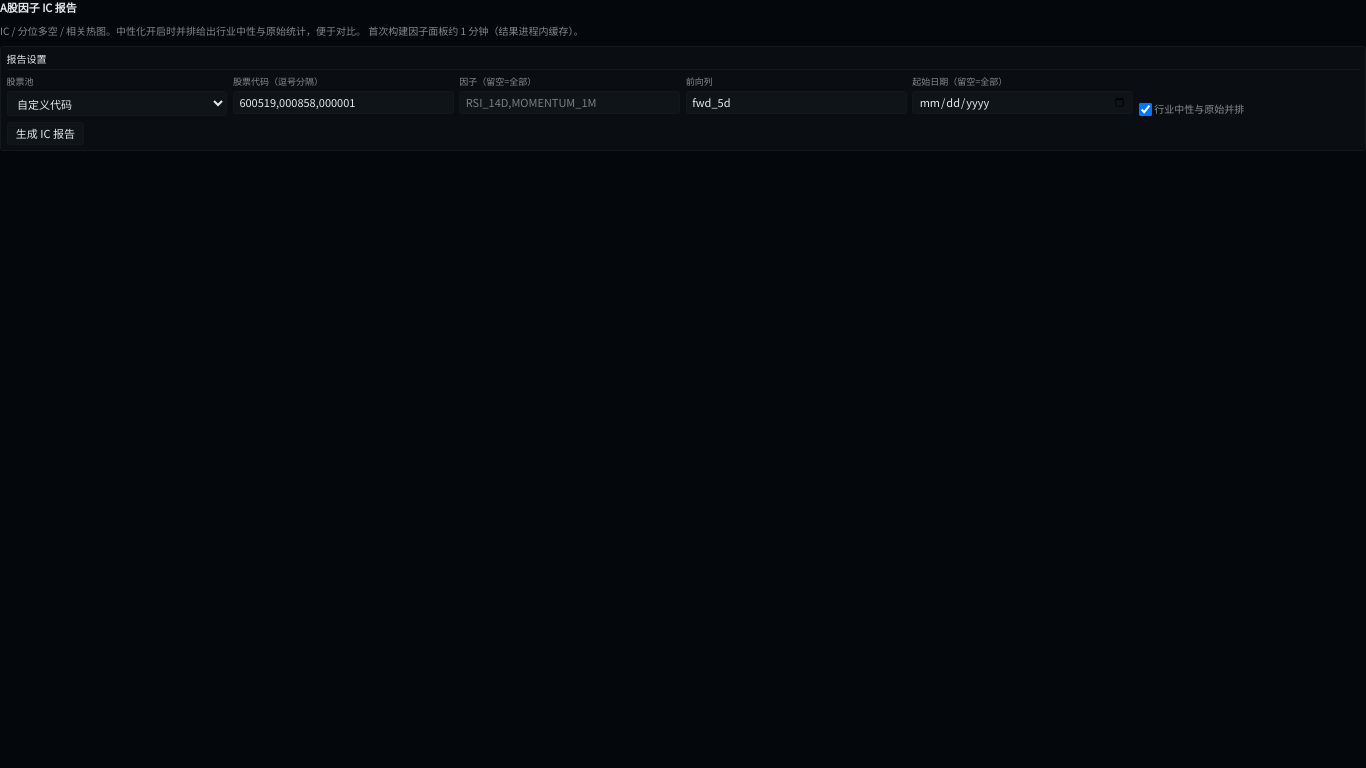
Test: AshareFactorReportPage › 生成报告:POST 参数拼装正确,四个分区渲染
The width and height of the screenshot is (1366, 768).
Click the button "生成 IC 报告".
click(45, 133)  # box 6,122 -> 84,145
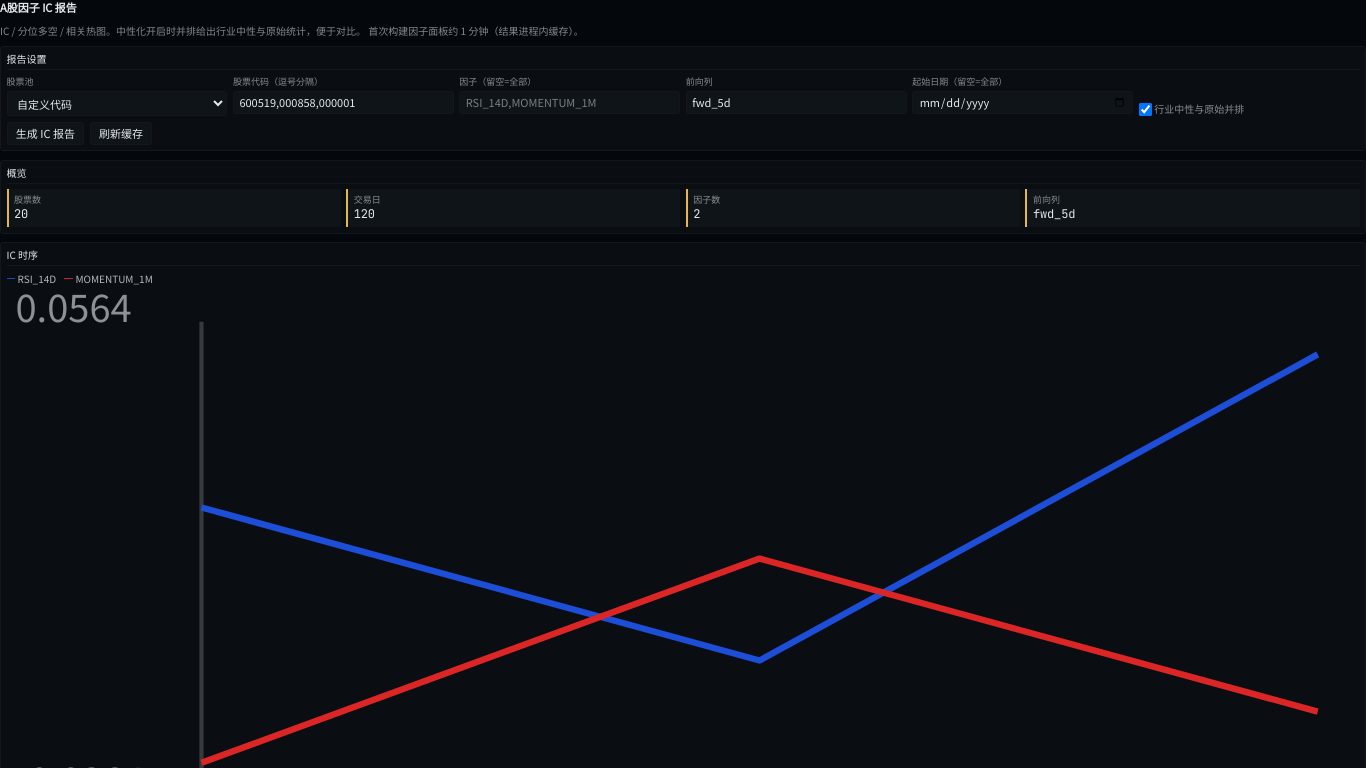
Expected: the text "IC 时序" is shown, 6,248 -> 38,262
Expected: the text "20" is shown, 14,206 -> 28,222
Expected: the text "120" is shown, 354,206 -> 375,222
